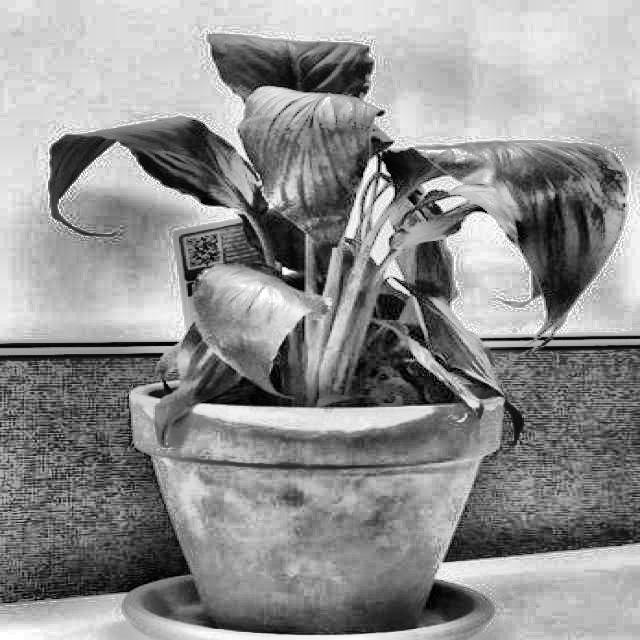plants: (26, 21, 620, 638)
